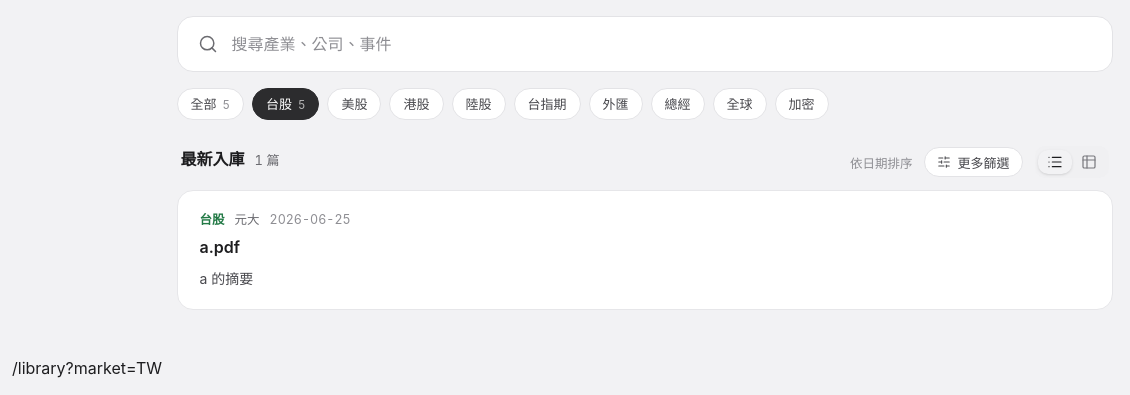
Test: SearchPage 搜尋 › 切表格檢視不重抓（browseReports 次數不變）
Expected: the link "台股 元大 2026-06-25 a.pdf a 的摘要" is shown, [200, 212, 351, 287]
Click the tab named "表格檢視" at x=1088, y=162, box [1072, 150, 1106, 174]
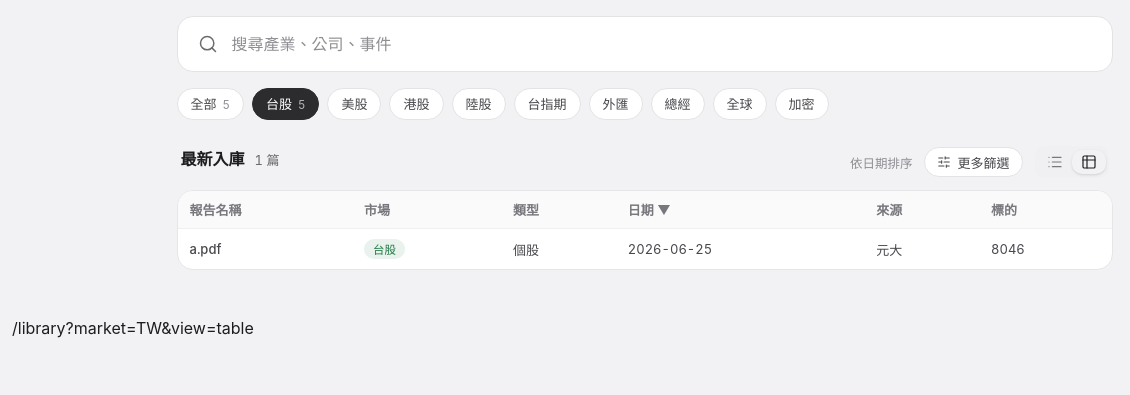
Expected: the column heading "報告名稱" is shown, [178, 191, 352, 228]
